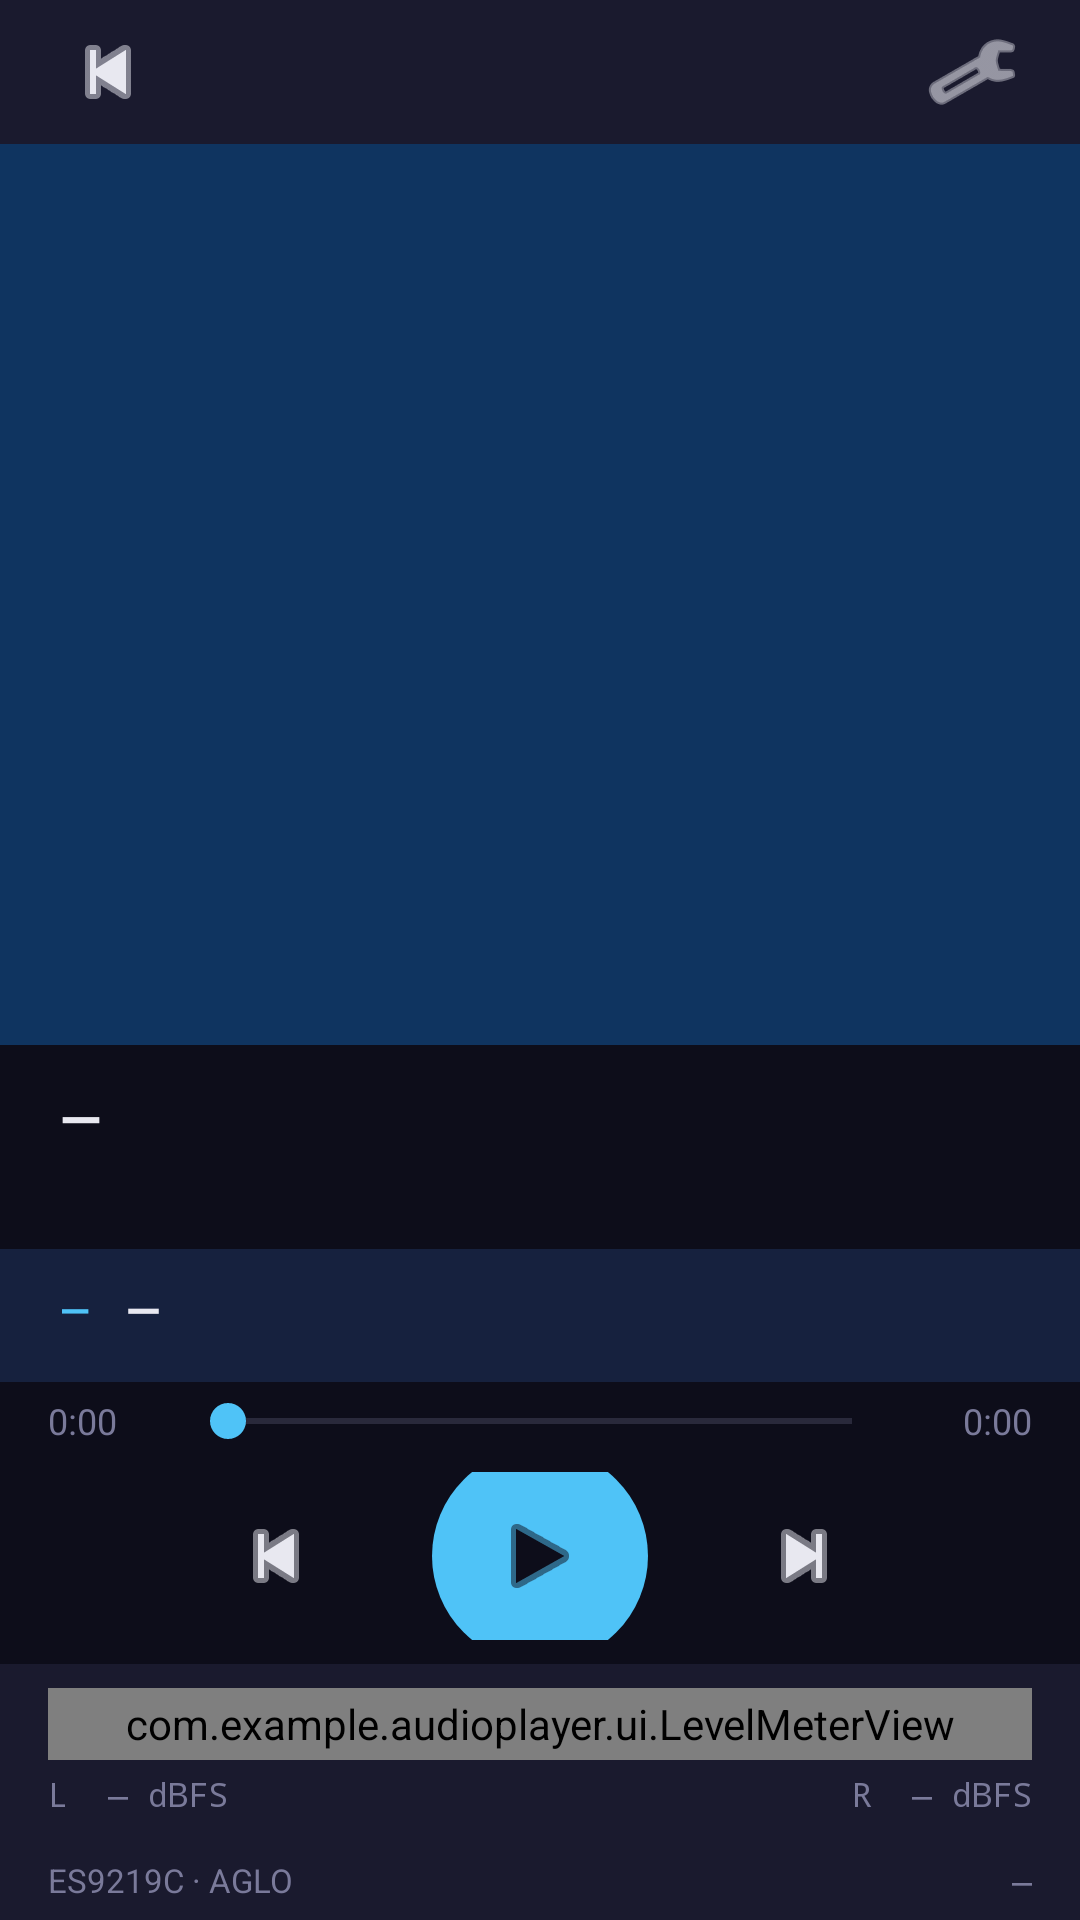

Where icons sit on this 1080px x 1920px app screen, as (x1, y1, x2, y2):
next: (781, 1529, 827, 1583)
preferences: (929, 39, 1015, 105)
previous: (85, 45, 131, 99), (253, 1529, 299, 1583)
